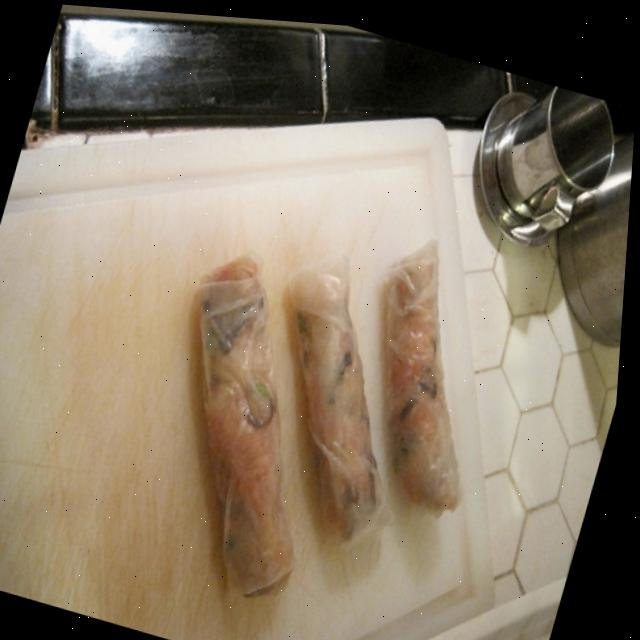炸货点心: (77, 122, 574, 640)
